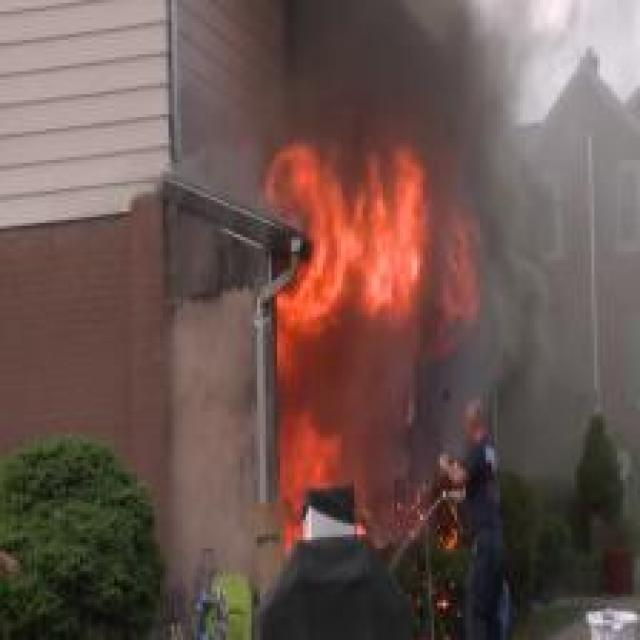Fire: (266, 140, 477, 540)
